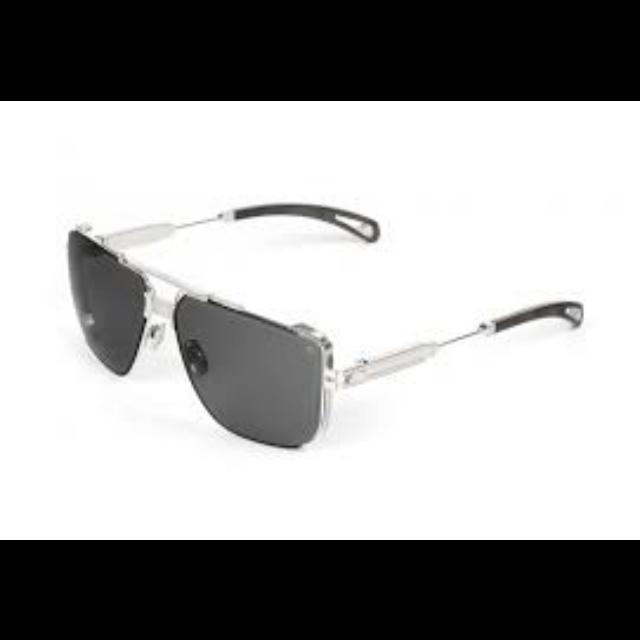glasses: (65, 200, 585, 450)
